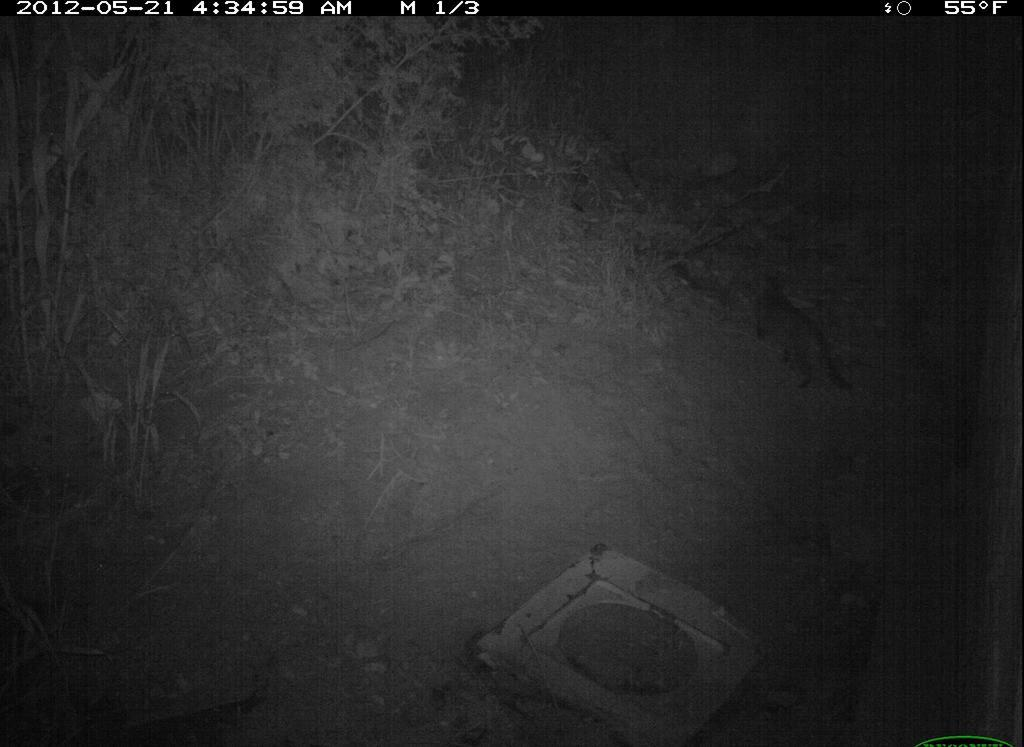cat: (748, 264, 848, 396)
